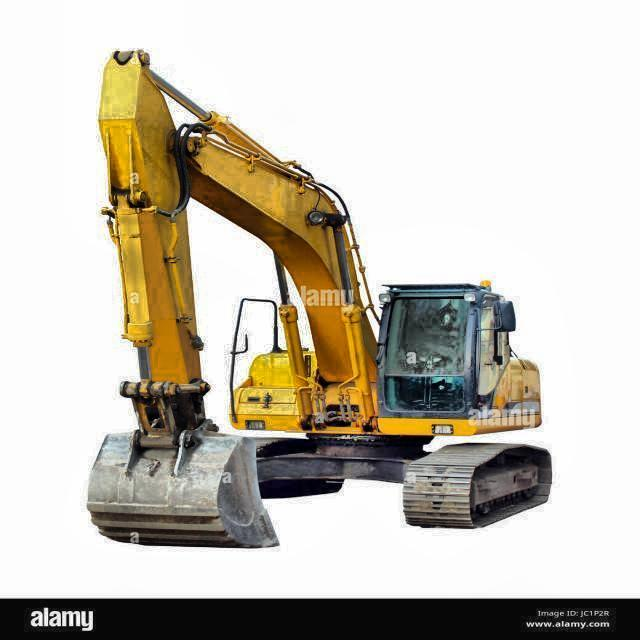excavator: (83, 48, 556, 549)
